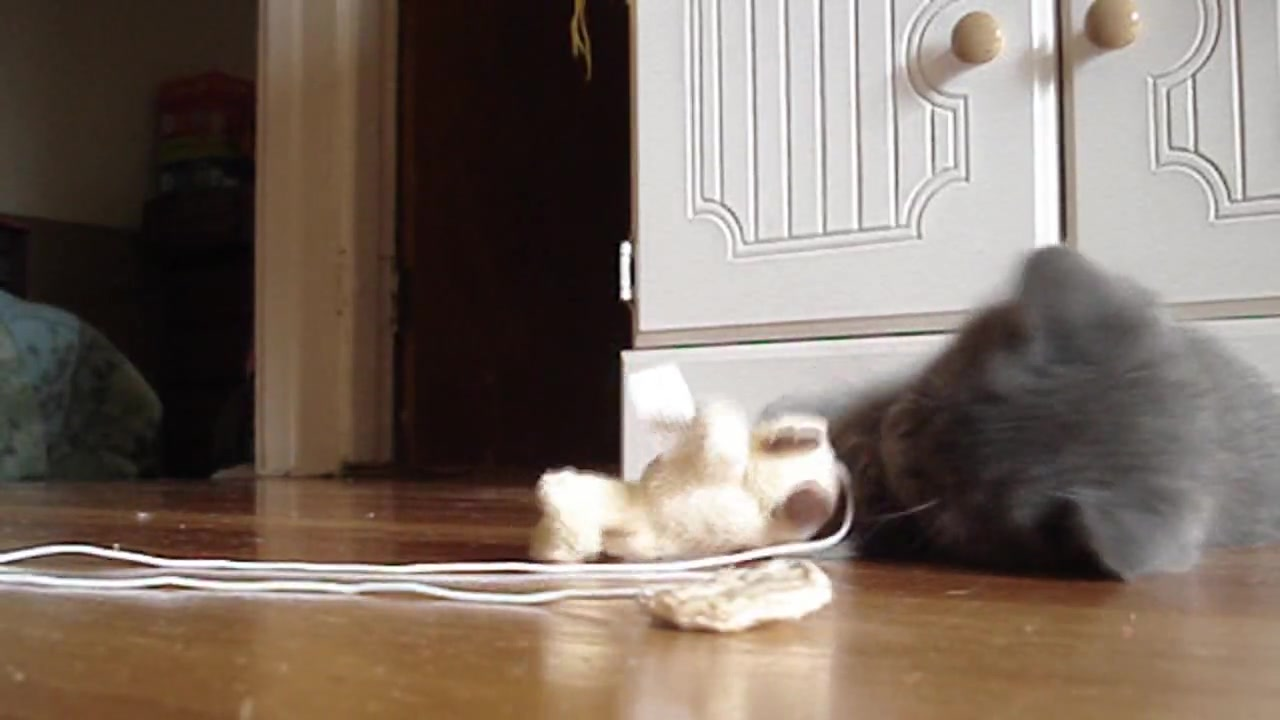cat: (826, 236, 1279, 586)
